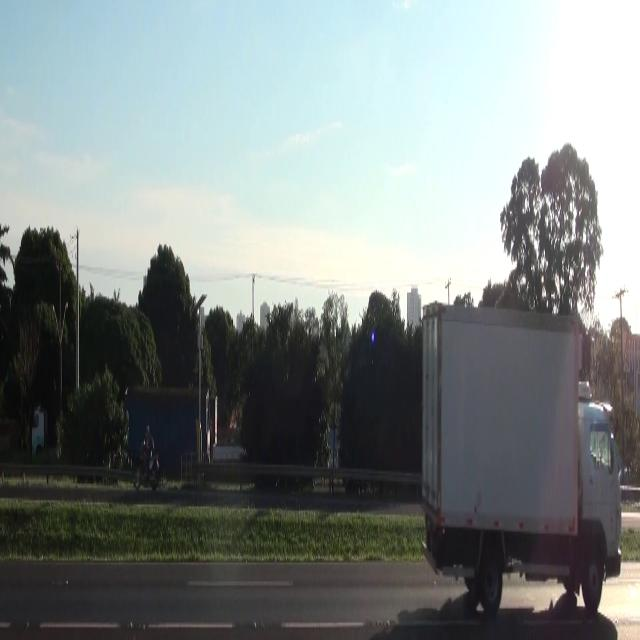-axle: (474, 540, 504, 613), (583, 540, 604, 613)
